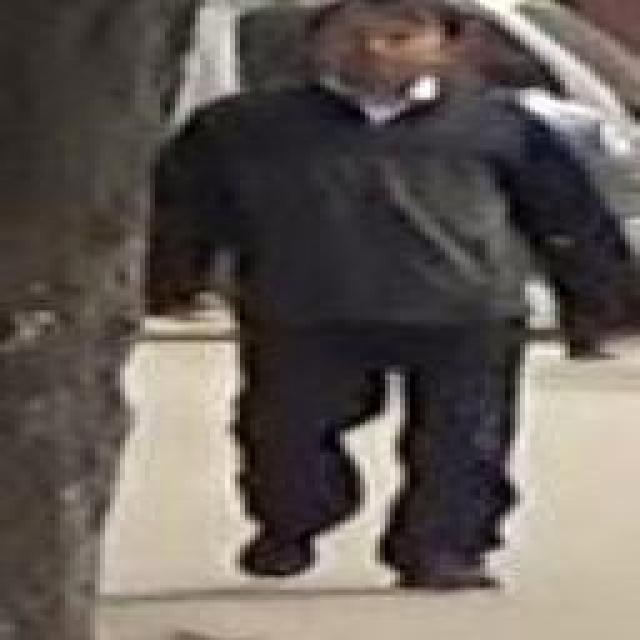adult: (151, 0, 640, 587)
